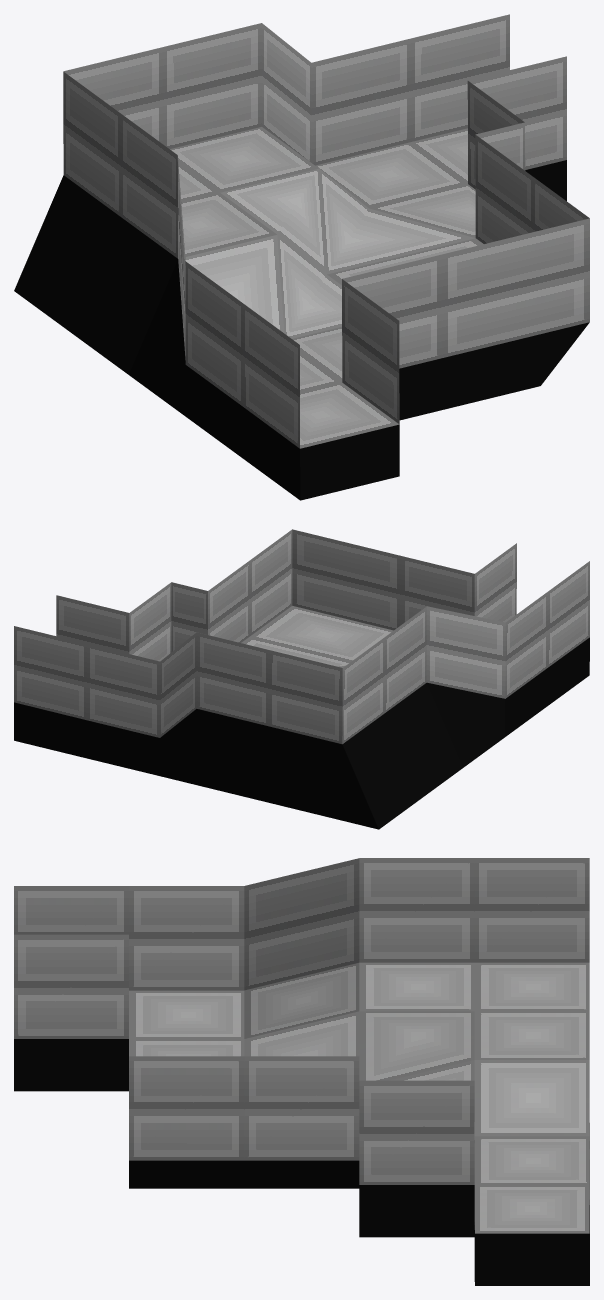
Rendered from RisenLturn.gltf.
The picture shows the model from 3 angles, top to bottom: view 1: azimuth 30°, elevation 25°; view 2: azimuth 150°, elevation 25°; view 3: azimuth 270°, elevation 25°; orthographic projection. The views are drawn at different scales.
Parts seen in each view (by area): view 1: RisenLturn; view 2: RisenLturn; view 3: RisenLturn.
Part boxes in pixels (x1,y1,x2,y2): RisenLturn: (14, 14, 589, 500); RisenLturn: (14, 529, 589, 829); RisenLturn: (14, 858, 589, 1285).
Size of the model in its own units: 10 by 4 by 10.
2 materials, 1 textured.
